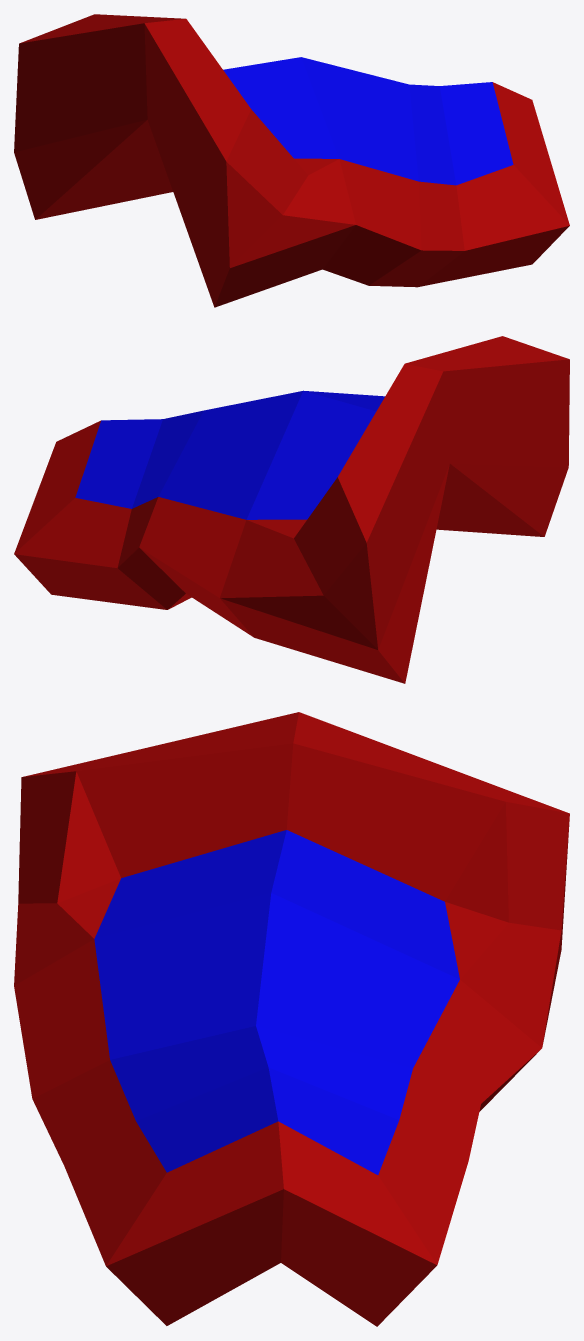
File: Chr_ShoulderAttachLeft_Static_13.fbx
The picture shows the model from 3 angles, top to bottom: view 1: azimuth 30°, elevation 25°; view 2: azimuth 150°, elevation 25°; view 3: azimuth 270°, elevation 25°; orthographic projection. The views are drawn at different scales.
Visible parts, largest first — view 1: Chr_ShoulderAttachLeft_13; view 2: Chr_ShoulderAttachLeft_13; view 3: Chr_ShoulderAttachLeft_13.
Part boxes in pixels (x1,y1,x2,y2): Chr_ShoulderAttachLeft_13: (14, 14, 569, 307); Chr_ShoulderAttachLeft_13: (14, 336, 569, 683); Chr_ShoulderAttachLeft_13: (14, 712, 569, 1326).
Bounding box in the file's own units: 29.34 × 19.32 × 24.94.
